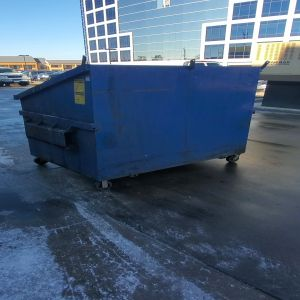Dumpster: (18, 64, 263, 192)
